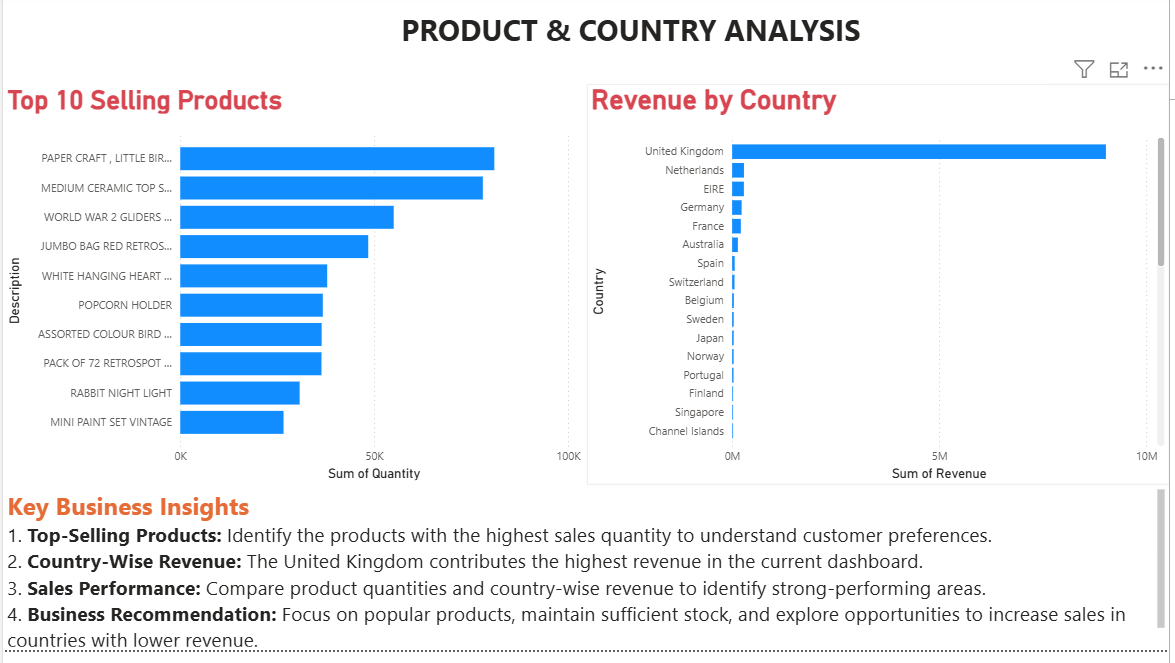

What the dashboard file says about the page in this screenshot:
{"tool":"powerbi","page":{"name":"Product & Country Analysis","canvas":[1280,720],"ordinal":1},"visuals":[{"type":"barChart","title":"Top 10 Selling Products","fields":{"Category":["RetailSales.Description"],"Y":["Sum(RetailSales.Quantity)"]},"box":[0,97.4,639.5,440.5],"z":0},{"type":"barChart","title":"Revenue by Country","fields":{"Category":["RetailSales.Country"],"Y":["Sum(RetailSales.Revenue)"]},"box":[640.8,97.4,639.5,440.5],"z":1},{"type":"textbox","box":[432.2,11,714.9,86.4],"z":2},{"type":"textbox","box":[0,537.9,1280.3,182.5],"z":3}]}

Visuals, with their boxes in screenshot pixels (x1, y1, x2, y2), scaled from the page's 1280x720 canvas onto the 1175x663 screenshot:
"Top 10 Selling Products" barChart: 0:90:587:495
"Revenue by Country" barChart: 588:90:1174:495
textbox: 397:10:1053:90
textbox: 0:495:1174:662
